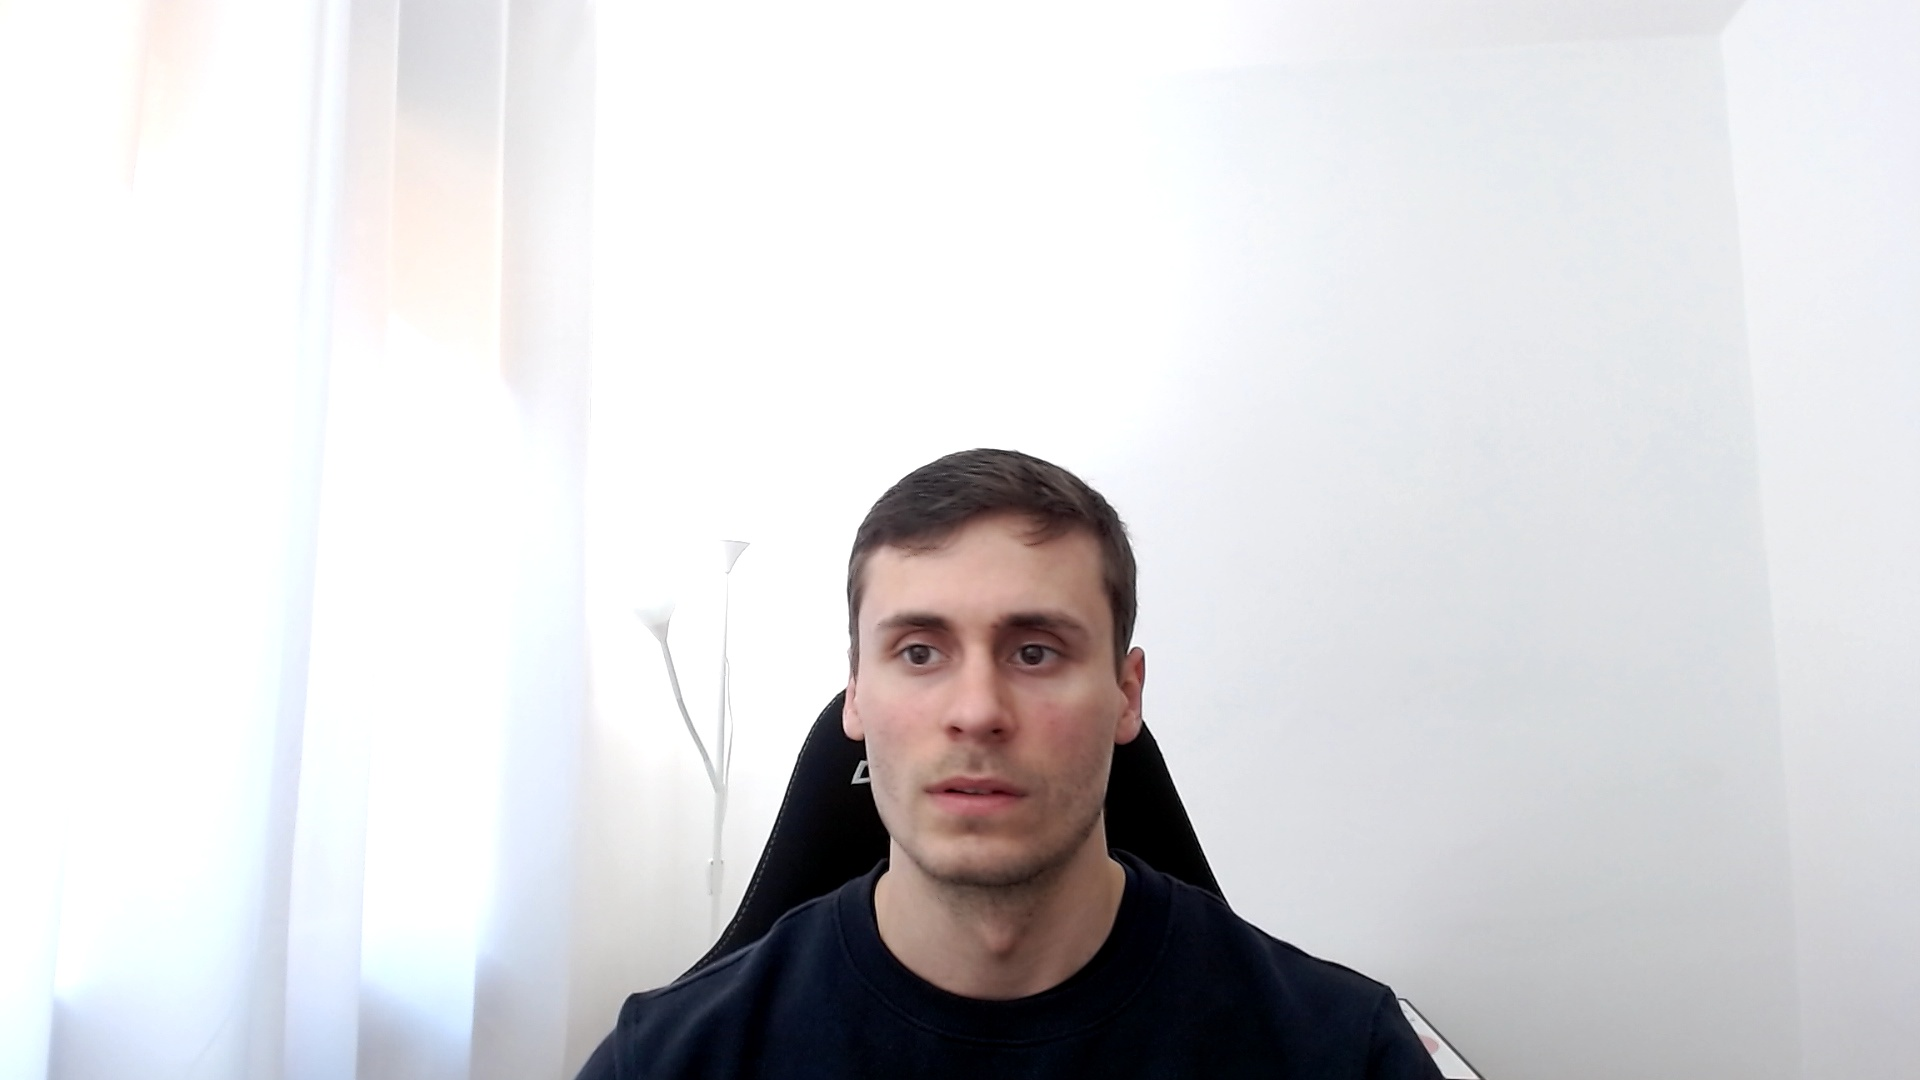No-mask: (844, 450, 1145, 883)
